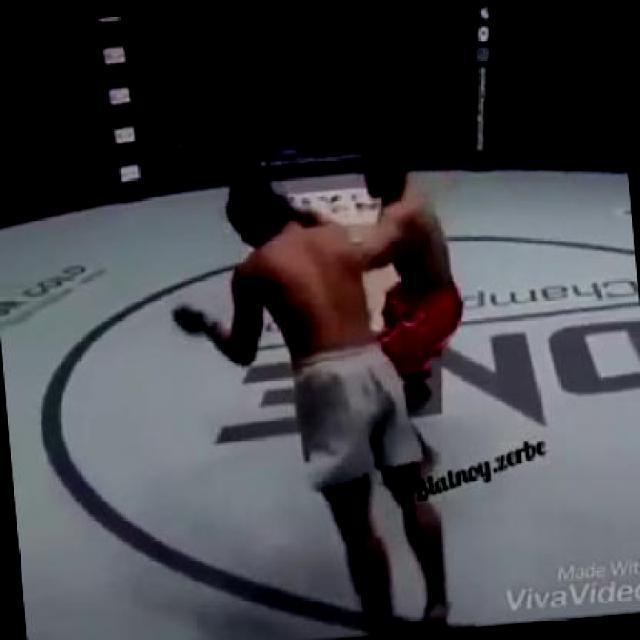fight: (205, 131, 498, 638)
